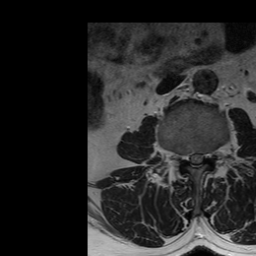CCS_stenosis: (193, 143, 199, 174)
LFS_stenosis: (206, 142, 214, 165)
LLS_stenosis: (199, 143, 206, 169)
RFS_stenosis: (179, 145, 186, 167)
RLS_stenosis: (186, 144, 193, 170)
